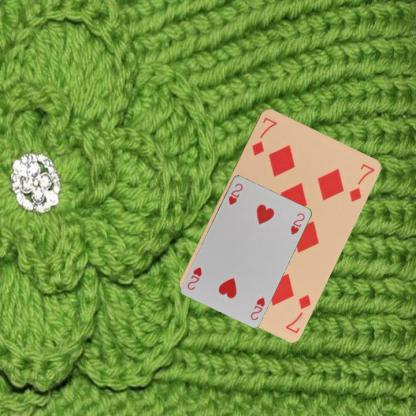2h: (248, 294, 266, 321), (226, 180, 244, 206)
7d: (282, 291, 312, 335), (249, 114, 279, 156)
